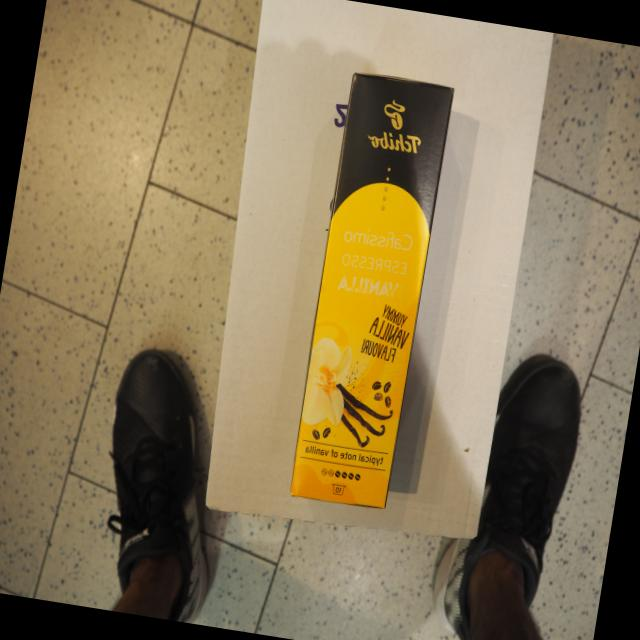Simo Es Vanilla: (286, 66, 458, 512)
